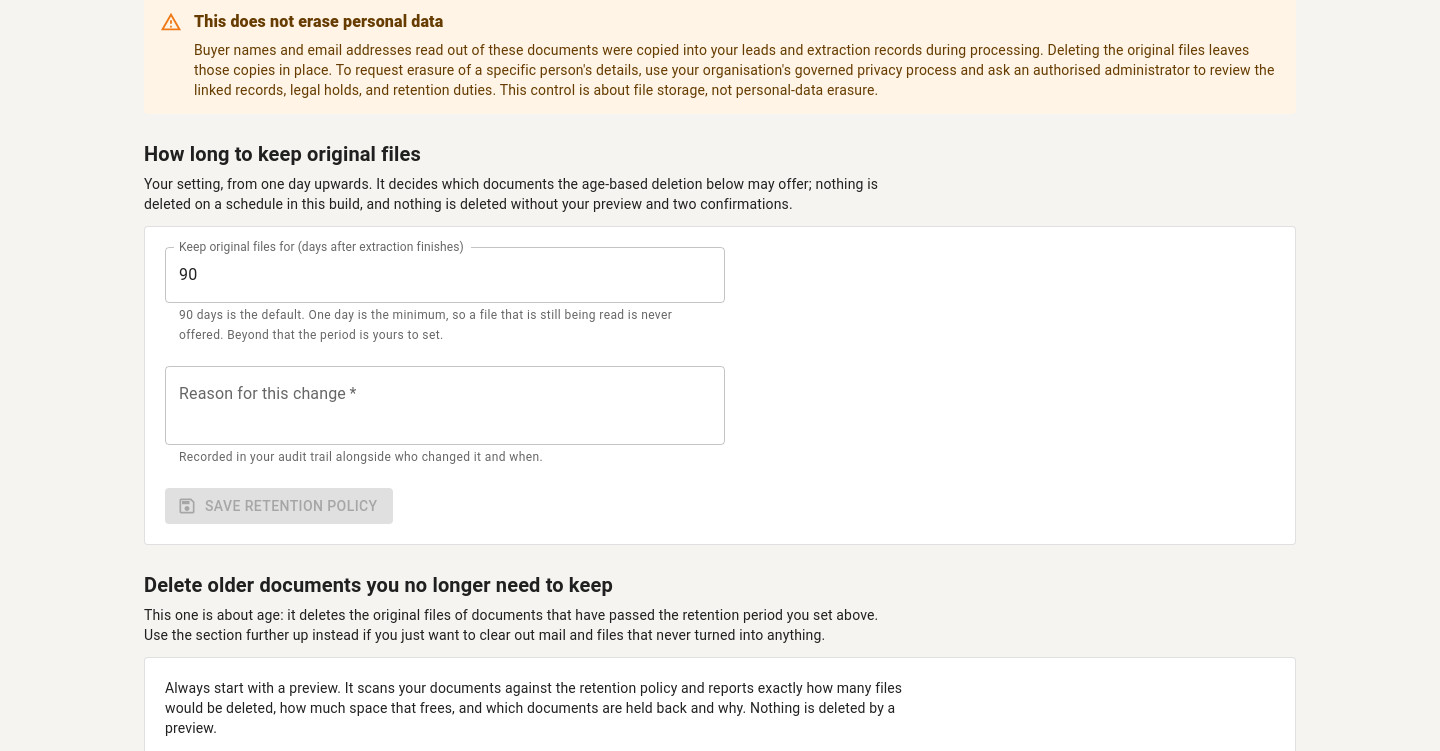
Test: StorageRetentionPage › lets the tenant keep originals for as little as one day, and refuses only zero
(page scrolled)
Type "Shorter window" into the text box labelled "Reason for this change *" at (445, 405), box x1=179 y1=382 x2=711 y2=428
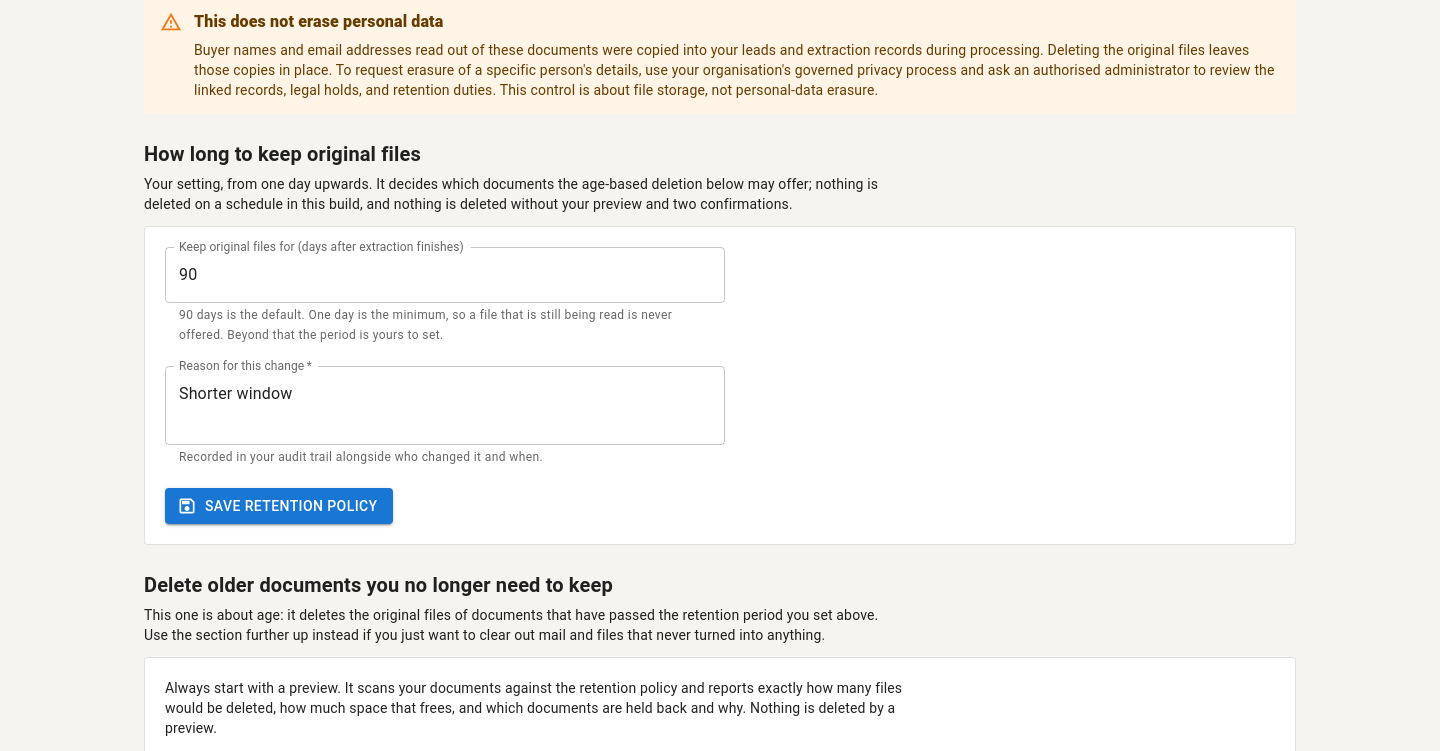
Replace the text in the number field labelled "Keep original files for (days after extraction finishes)" with "5" at (445, 275), box x1=165 y1=247 x2=725 y2=303
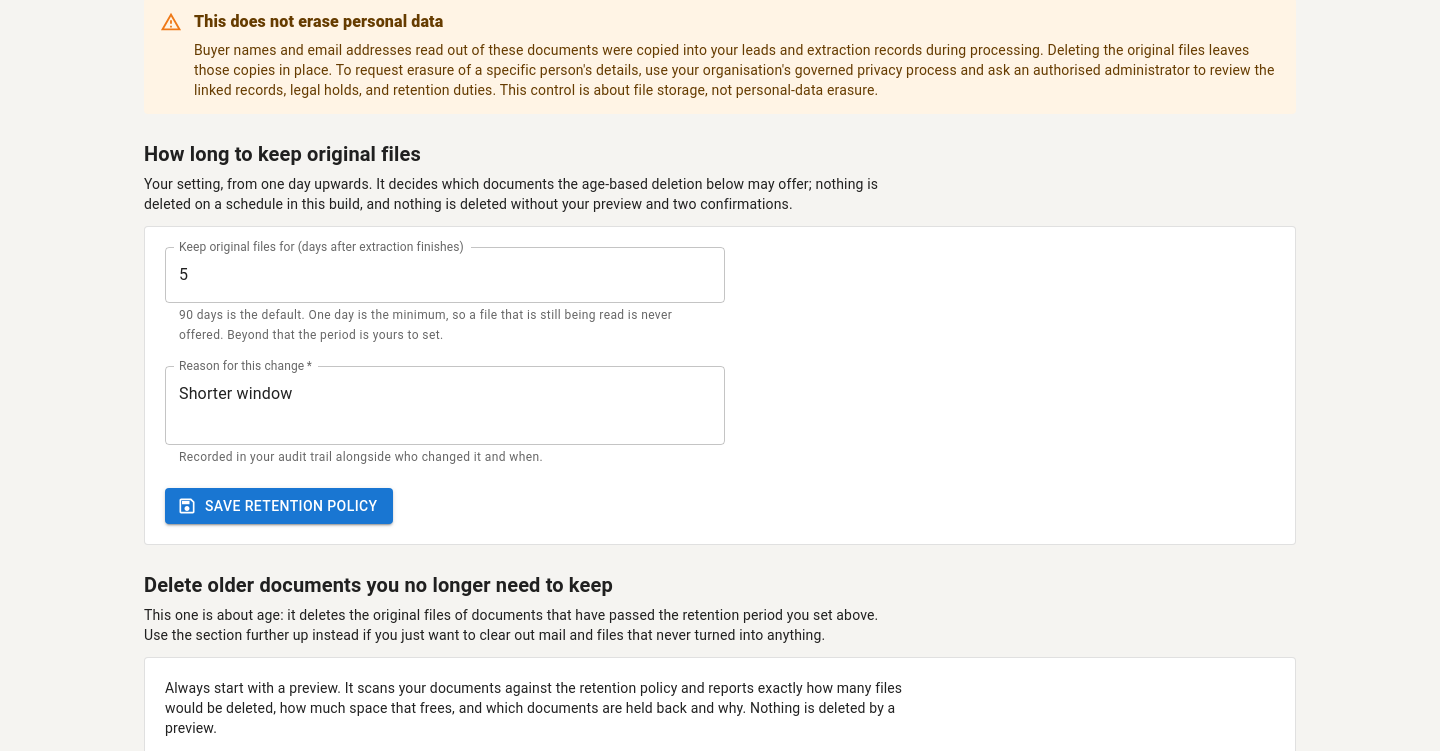
Expected: the text "between 1 and 3650" is not shown
Result: the button "Save retention policy" is enabled at x1=165 y1=488 x2=394 y2=524
Replace the text in the number field labelled "Keep original files for (days after extraction finishes)" with "0" at (445, 275), box x1=165 y1=247 x2=725 y2=303
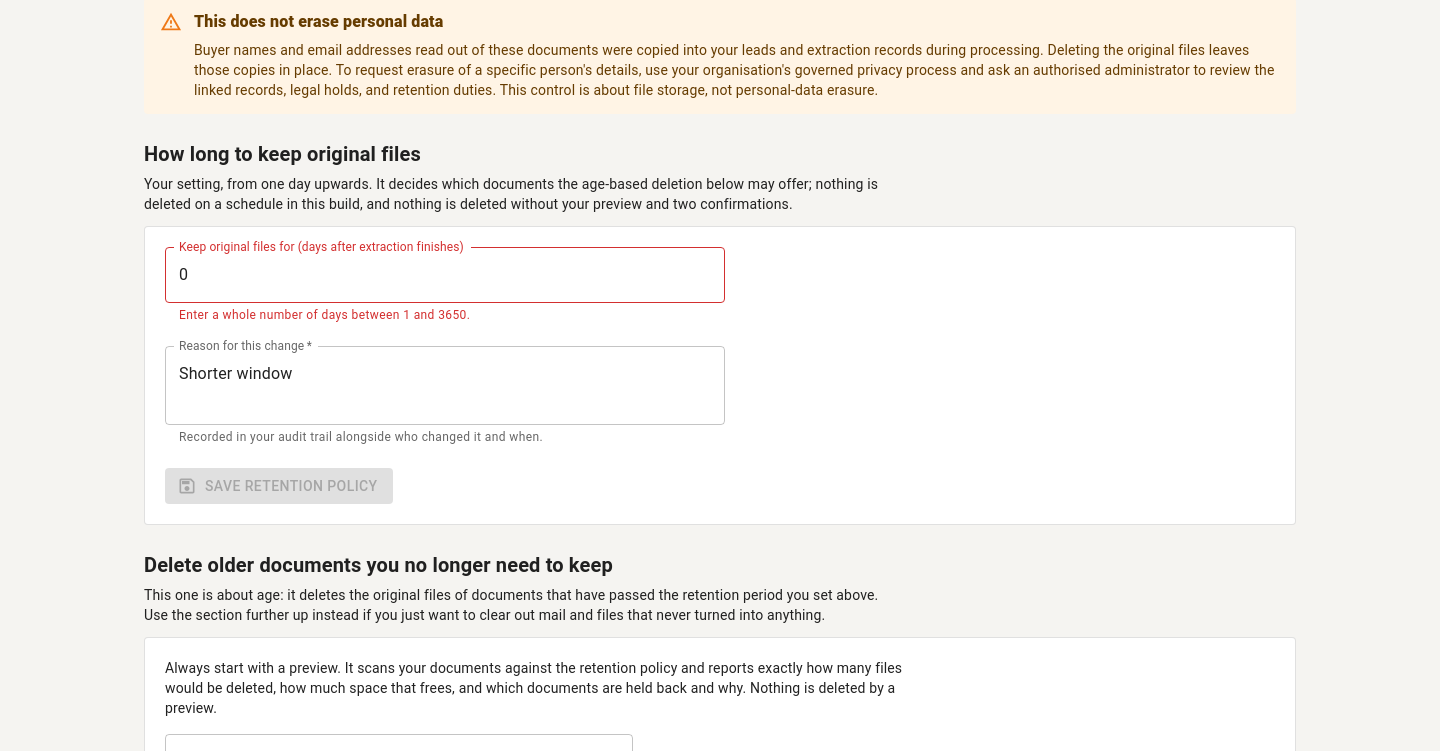
Result: the text "Enter a whole number of days between 1 and 3650." is shown at x1=179 y1=308 x2=470 y2=322
Result: the button "Save retention policy" is disabled at x1=165 y1=468 x2=394 y2=504
